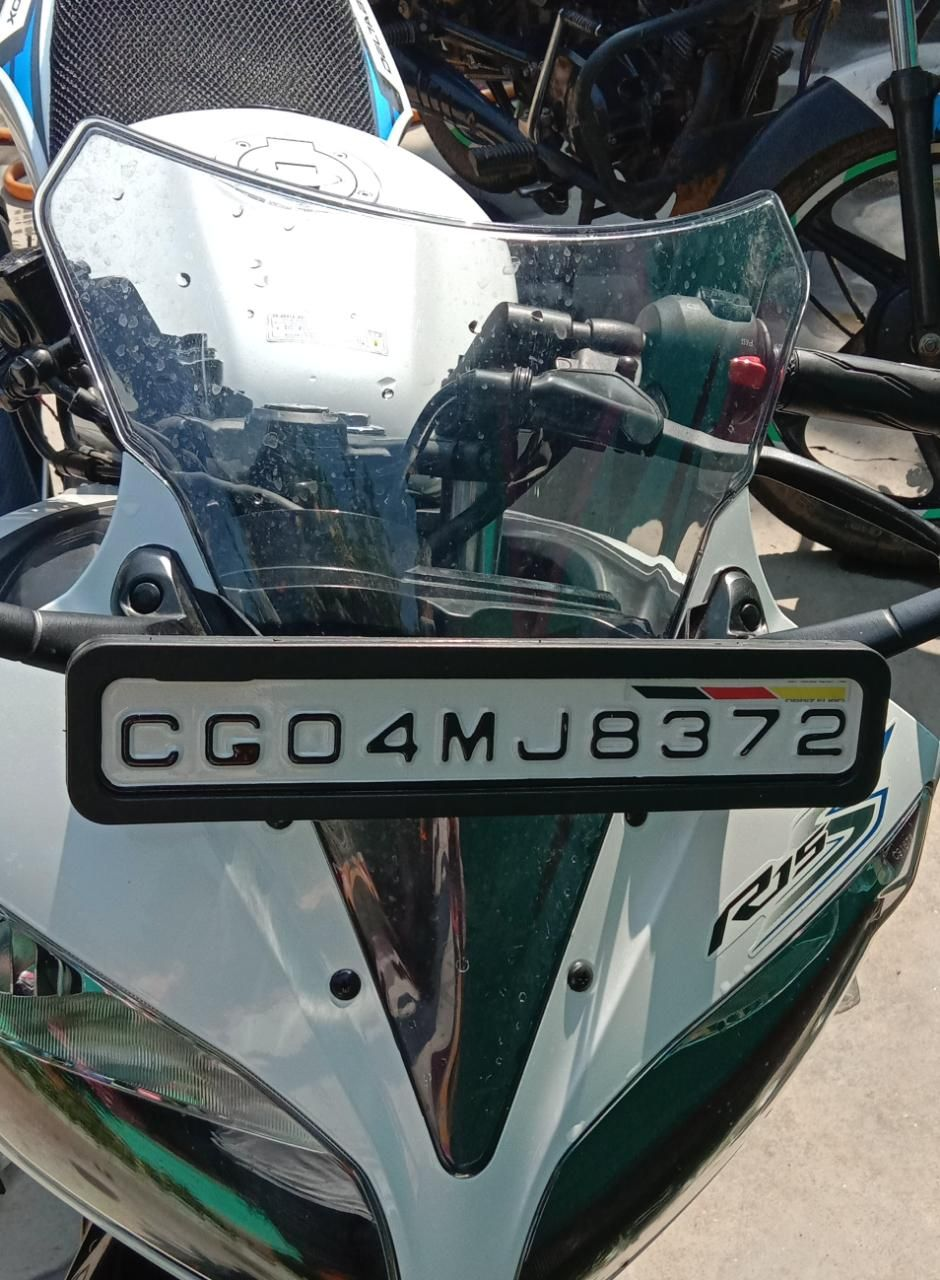plate: (52, 610, 901, 836)
